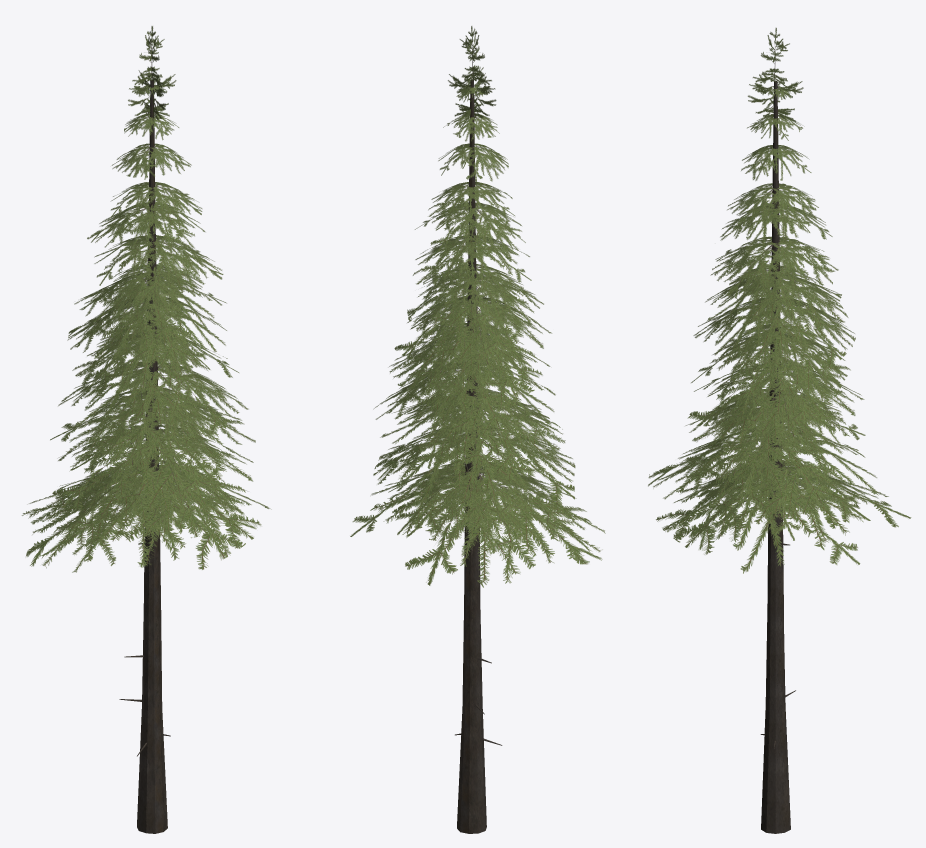
File: pino_alto.glb
The picture shows the model from 3 angles, left to right: view 1: azimuth 30°, elevation 25°; view 2: azimuth 150°, elevation 25°; view 3: azimuth 270°, elevation 25°; orthographic projection.
Parts seen in each view (by area): view 1: pino_alto; view 2: pino_alto; view 3: pino_alto.
Part boxes in pixels (box(x1,y1,x2,y2)): pino_alto: box(22, 26, 271, 833); pino_alto: box(350, 26, 605, 833); pino_alto: box(648, 28, 911, 833).
Bounding box in the file's own units: 4.83 × 14.5 × 4.36.
3 materials, 3 textured.
